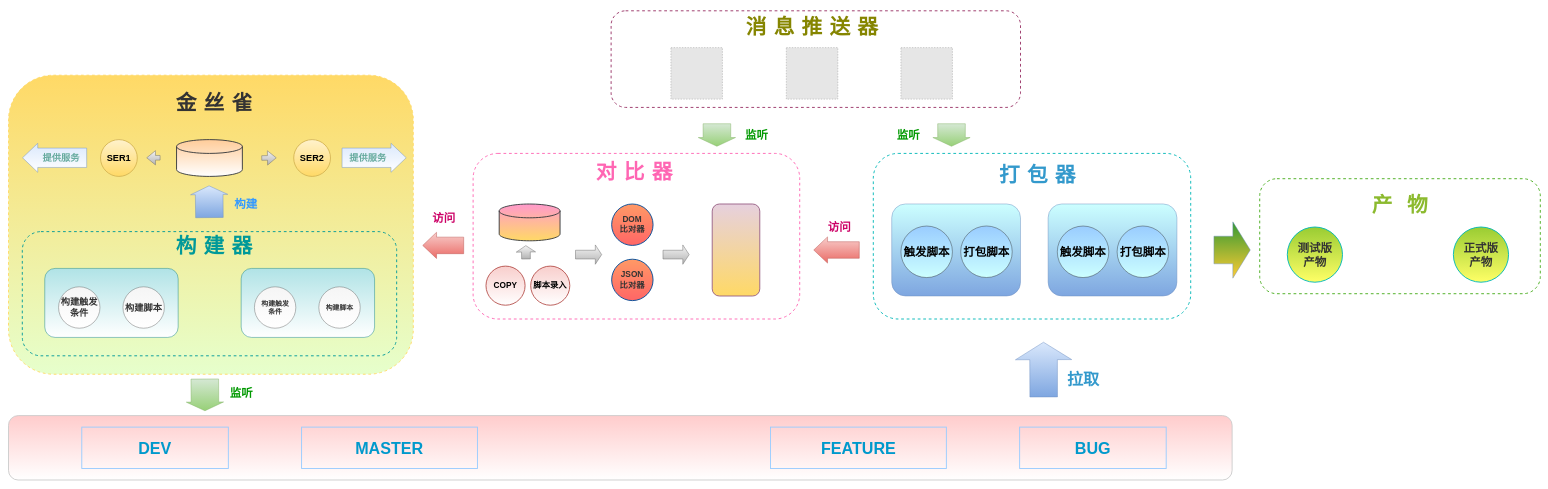
The diagram is 1548 pixels wide and 489 high, and some of its shapes have lost their labels. Grey dashed boxes stand in for pictures. The shapes that lost their labels are listed below. From the top down, each one's box as (x1, y1, x2, y2) in pixels, then its label:
(176, 139, 243, 177): 数据工厂
(499, 203, 560, 241): 期望结果
(712, 203, 760, 296): 测 试 报 告
(8, 415, 1232, 480): G I T 仓 库
